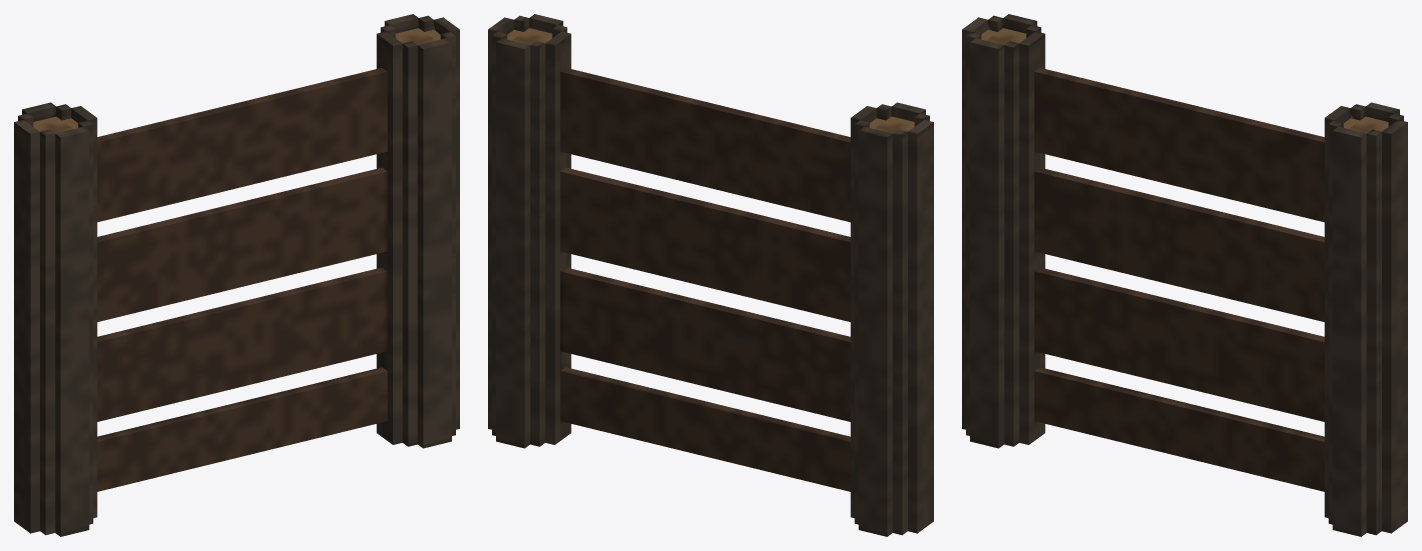
The model's file is p_NAD_MORSI_1_S.dae.
3 renders of one model, left to right at view 1: azimuth 30°, elevation 25°; view 2: azimuth 150°, elevation 25°; view 3: azimuth 330°, elevation 25°, orthographic.
Parts seen in each view (by area): view 1: Content; view 2: Content; view 3: Content.
Part boxes in pixels (x1=…): Content: x1=14, y1=14, x2=459, y2=536; Content: x1=488, y1=14, x2=933, y2=536; Content: x1=962, y1=14, x2=1407, y2=536.
Size of the model in its own units: 45 by 40 by 7.
1 material, 1 textured.
